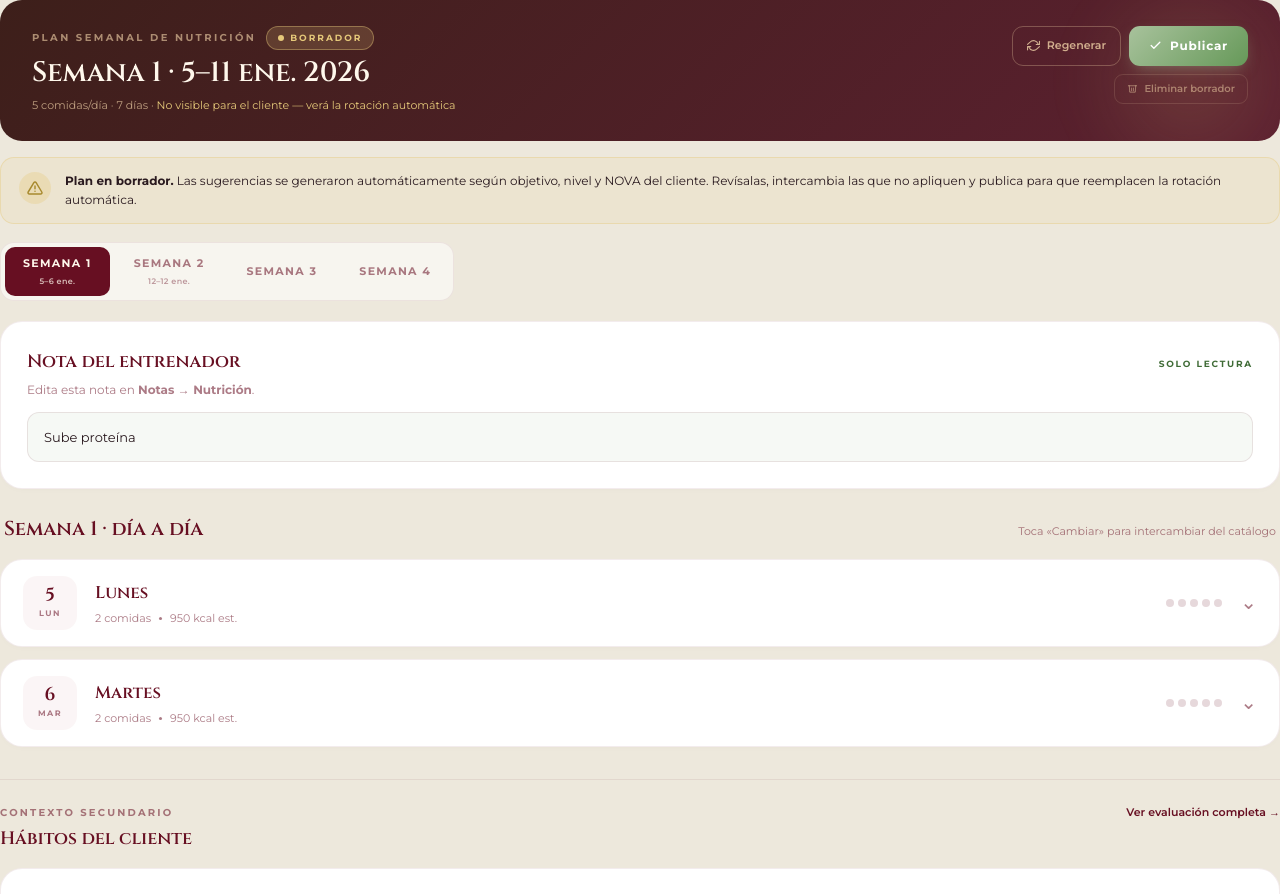
Test: ClientNutritionTab › opens the meal swap picker after clicking Cambiar
This screenshot has width=1280, height=894.
Expected: the text "Borrador" is shown, [266, 26, 374, 50]
Click the 1st text "2 comidas" at [123, 619], box [95, 610, 151, 628]
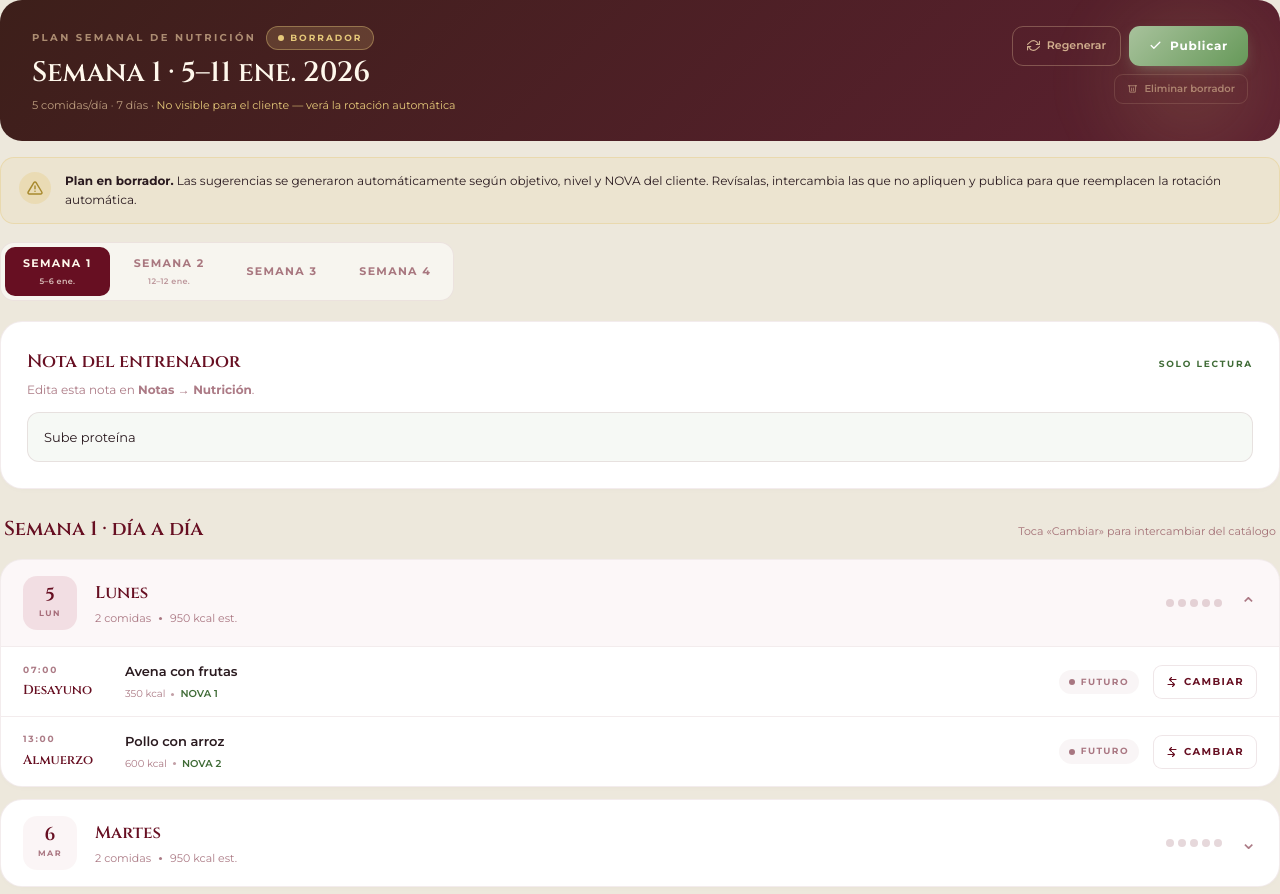
Click the button "Cambiar" in the row of "Avena con frutas" at [1205, 682], box [1153, 665, 1257, 699]
Wait 300 ms
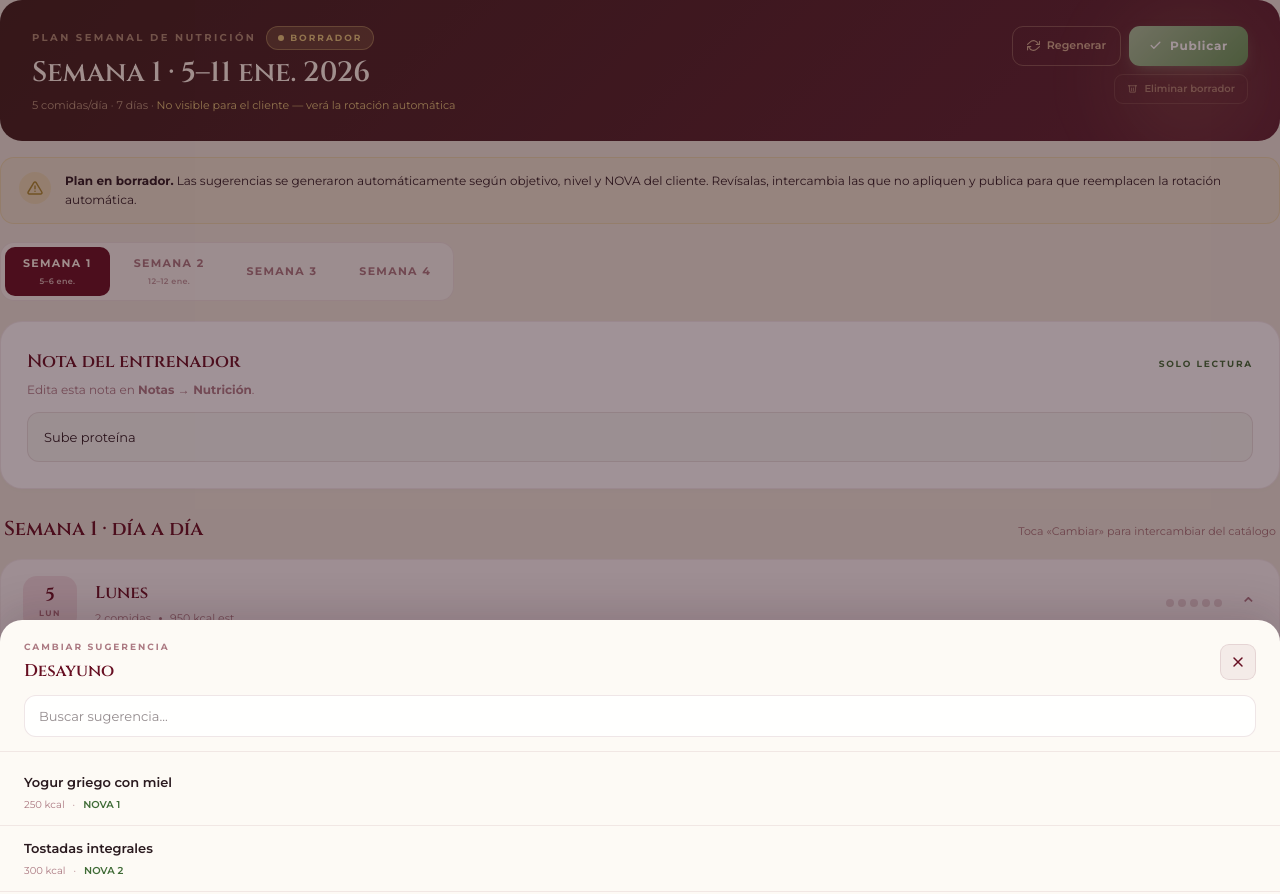
Expected: the field with placeholder "Buscar sugerencia..." is shown, [24, 695, 1256, 737]
